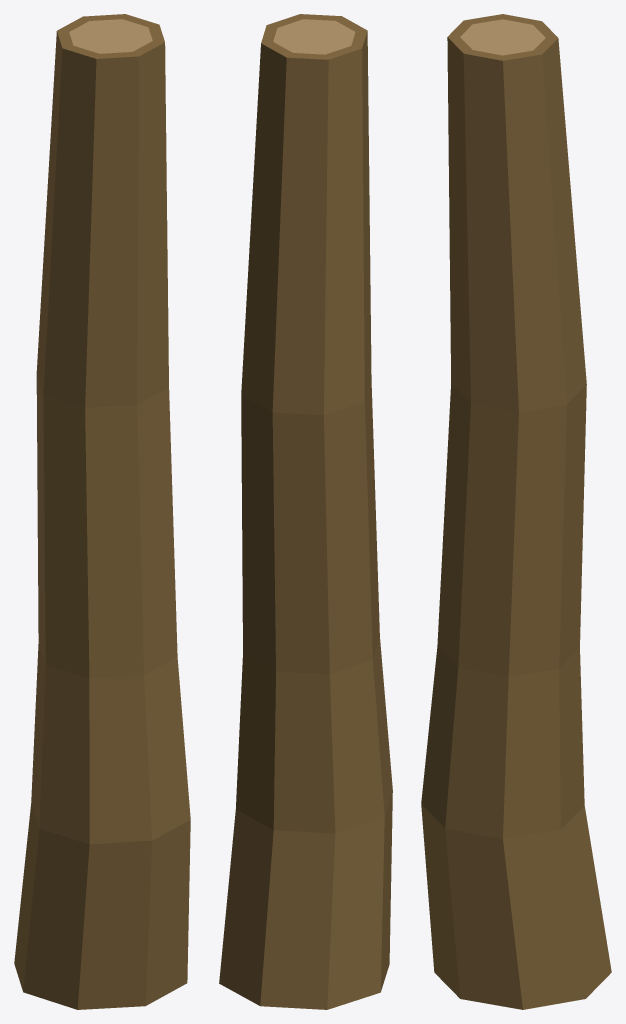
Rendered from LOG.fbx.
3 renders of one model, left to right at view 1: azimuth 30°, elevation 25°; view 2: azimuth 150°, elevation 25°; view 3: azimuth 270°, elevation 25°, orthographic.
Parts seen in each view (by area): view 1: pCylinder1; view 2: pCylinder1; view 3: pCylinder1.
Boxes of the visible parts, bbox=[...] form: pCylinder1: bbox=[14, 14, 190, 1009]; pCylinder1: bbox=[219, 14, 392, 1009]; pCylinder1: bbox=[421, 14, 611, 1009].
Bounding box in the file's own units: 2 × 11.63 × 2.15.
